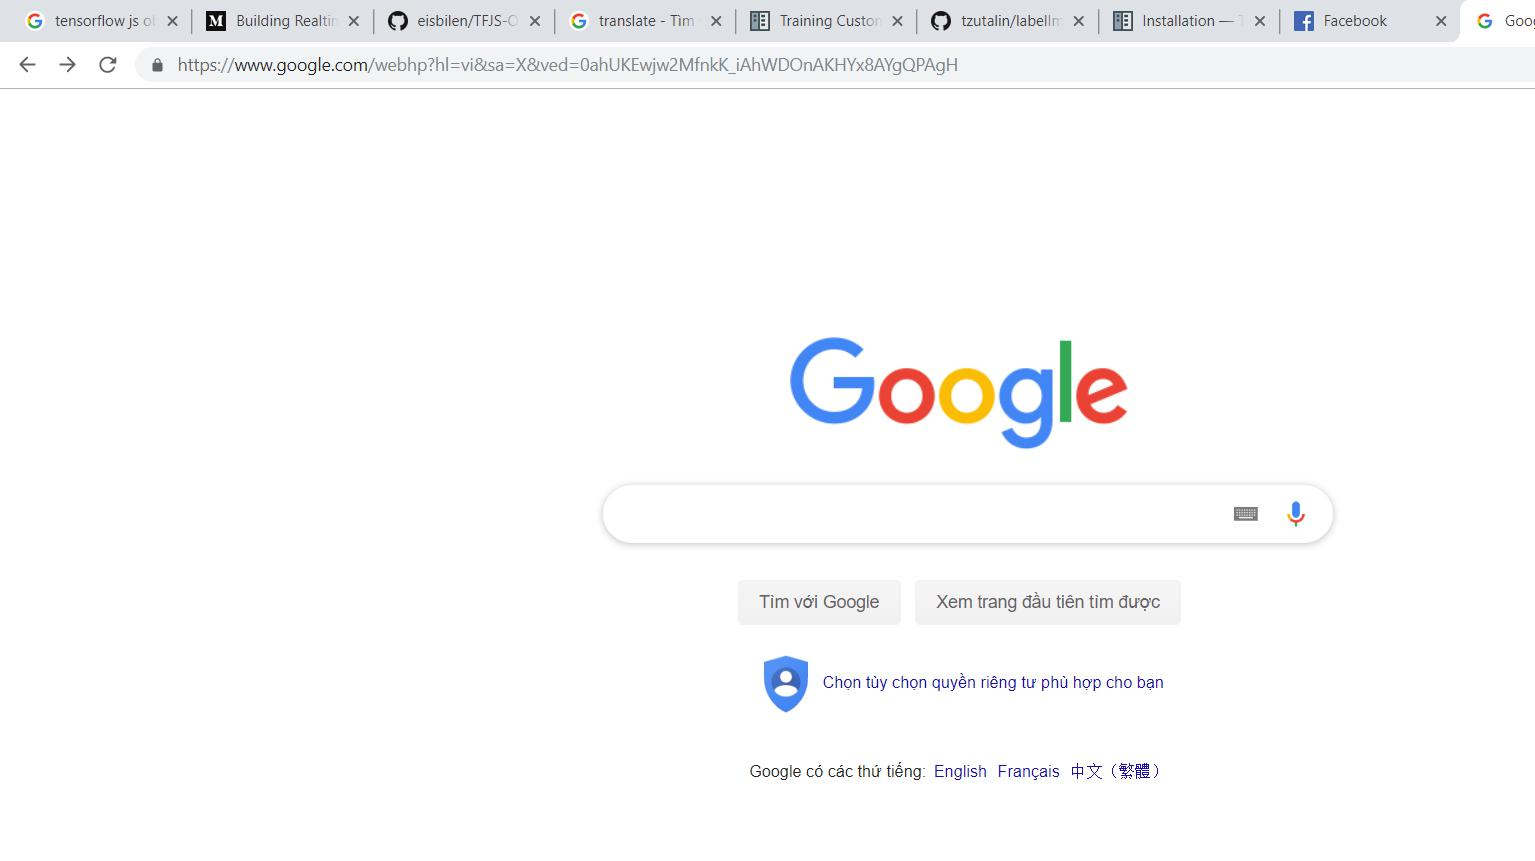google: (790, 335, 1127, 451)
